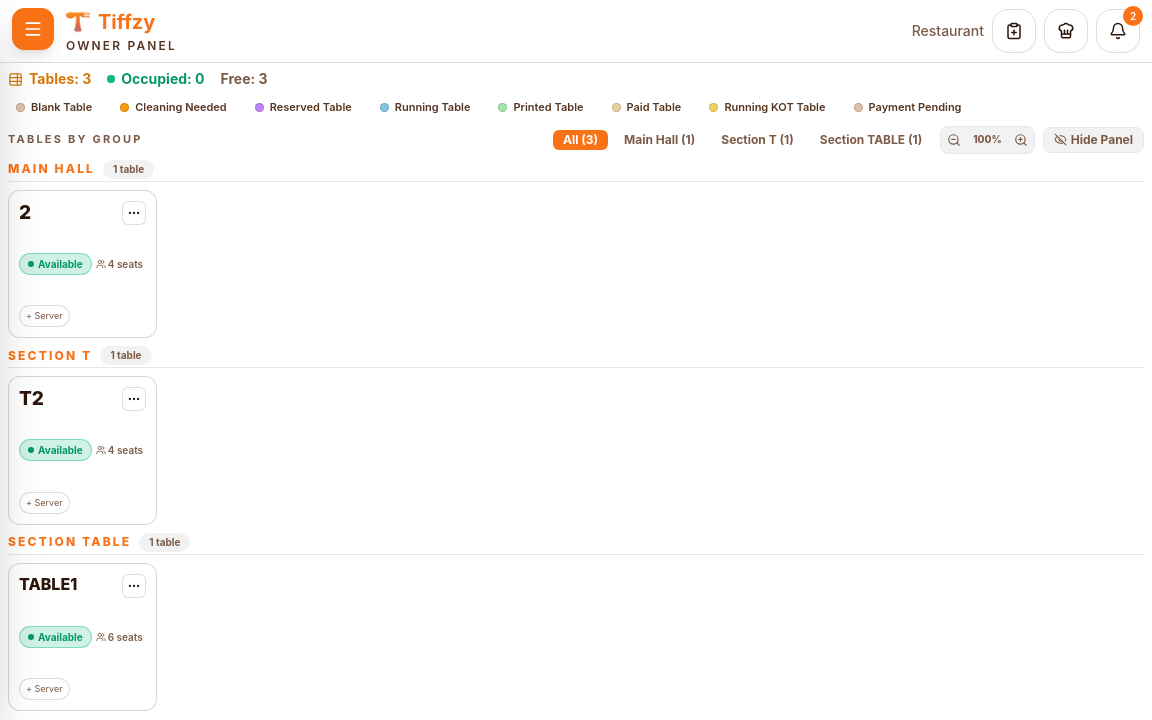
Scenario: Tiffzy Owner Panel — COMPLETE QA AUDIT TEST SUITE › CRITICAL REGRESSION TEST: Table 2 vs Table T2 Collision Independence › TC-REG-02: Assign Server A (kamalesh) to Main Hall Table 2 -> T2 remains unchanged
This screenshot has width=1152, height=720.
// Open staff selector for Table 2
Click the 1st button titled "Assign server for Table 2": [44, 316] box [19, 305, 70, 327]
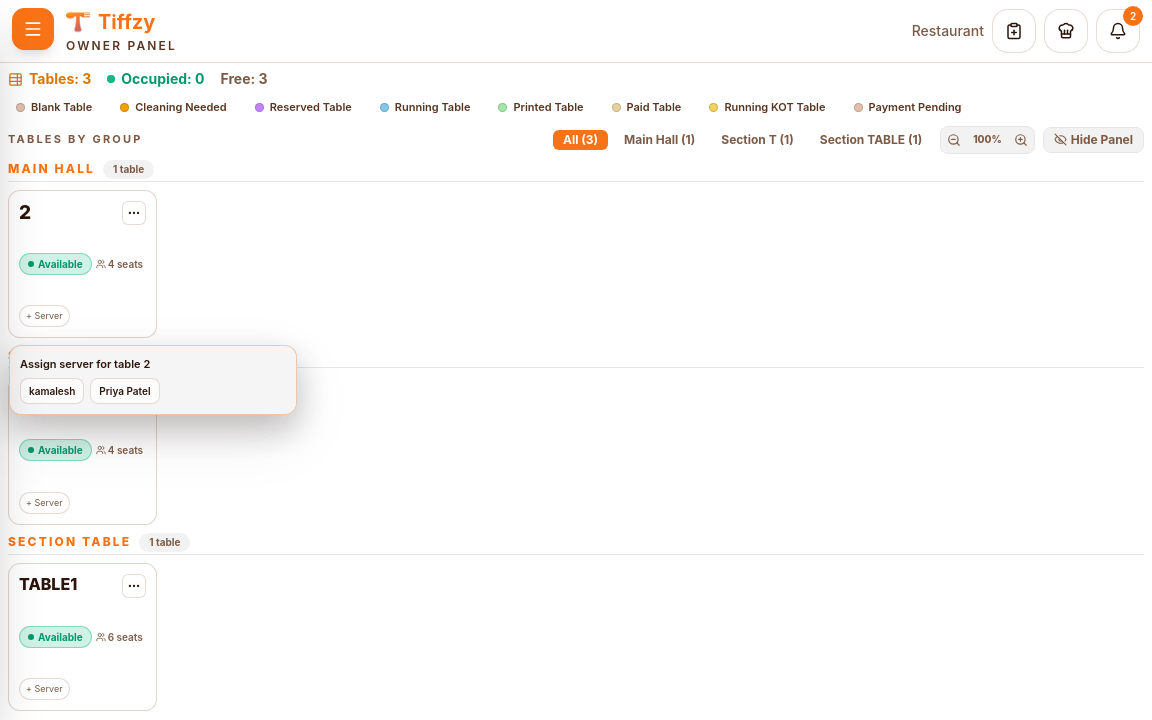
Now the text "Assign server for table 2" is shown, box [20, 357, 150, 371]
// Click kamalesh
Click the button "kamalesh": [52, 391] box [20, 378, 84, 404]
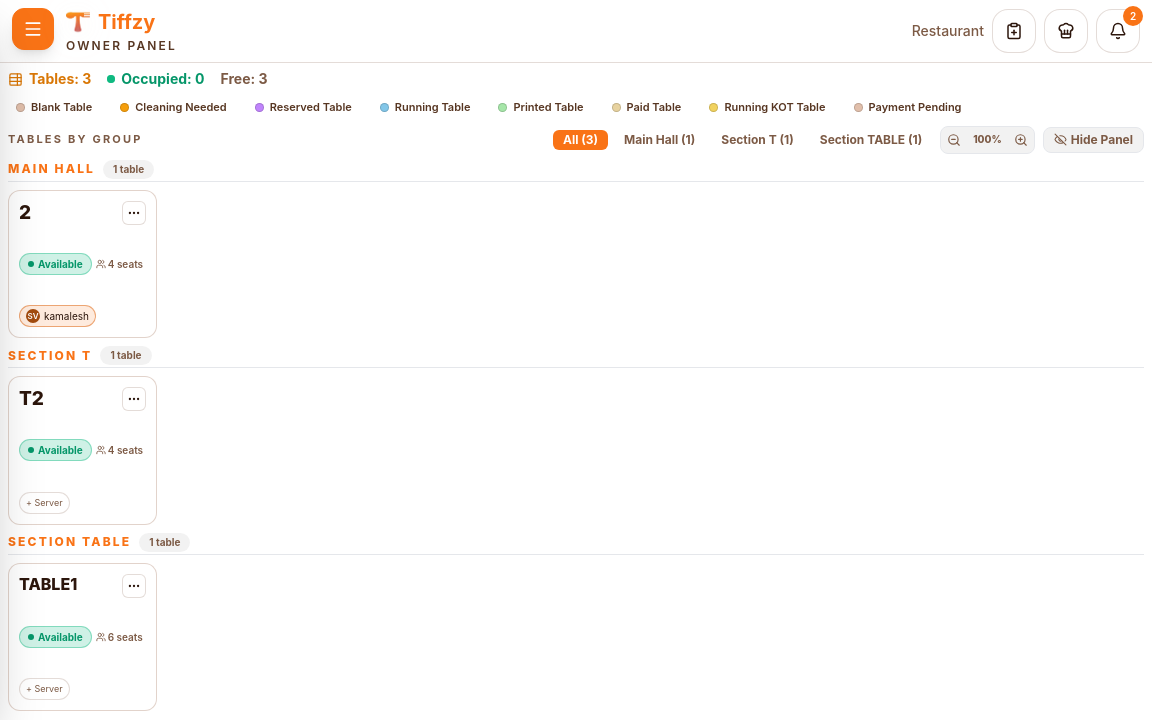
Expected: the button titled "Assign server for Table T2" below "T2" is shown, [19, 492, 70, 514]
Now the button titled "Assigned: kamalesh - Server" is shown, box [19, 305, 96, 327]
